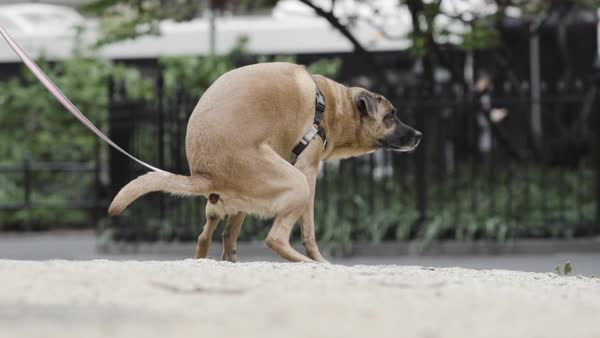dog_pooping: (105, 59, 424, 272)
